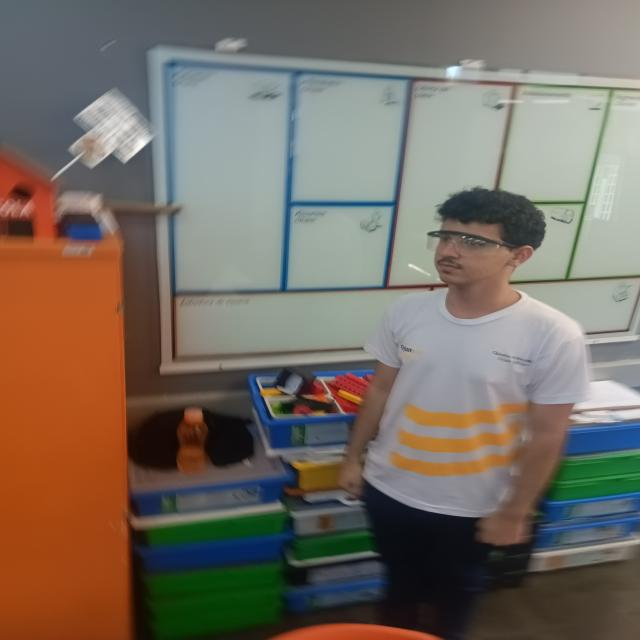oculos-epi: (425, 231, 518, 258)
